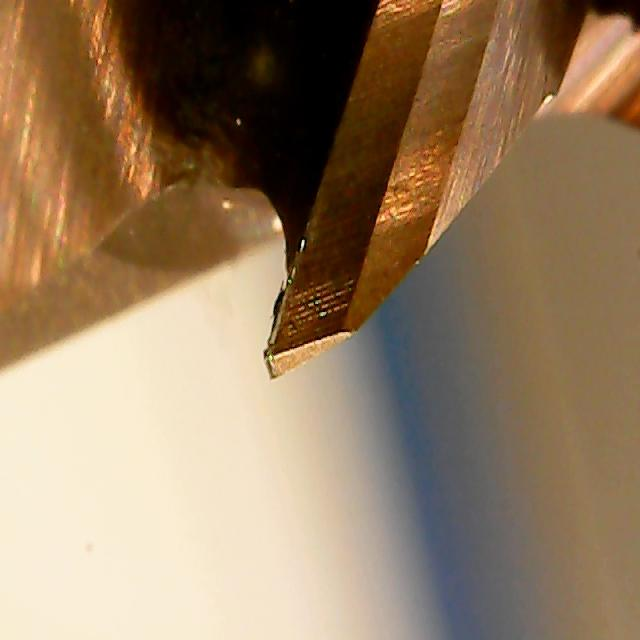Tool-wear-class-1: (248, 168, 416, 393)
